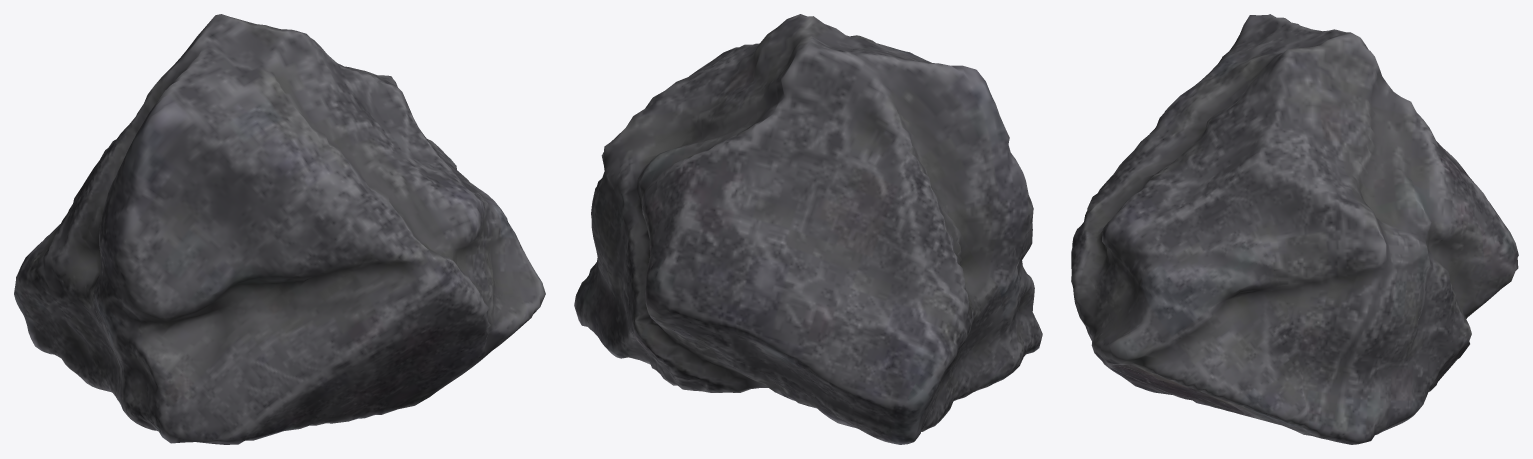
The model's file is rock-boulder-2.glb.
3 renders of one model, left to right at view 1: azimuth 30°, elevation 25°; view 2: azimuth 150°, elevation 25°; view 3: azimuth 270°, elevation 25°, orthographic. The views are drawn at different scales.
Visible parts, largest first — view 1: defaultMaterial; view 2: defaultMaterial; view 3: defaultMaterial.
Part boxes in pixels (<box>): defaultMaterial: <box>14,14,545,444</box>; defaultMaterial: <box>574,14,1042,444</box>; defaultMaterial: <box>1071,14,1518,444</box>.
Size of the model in its own units: 94.9 by 77.41 by 94.97.
1 material, 1 textured.
